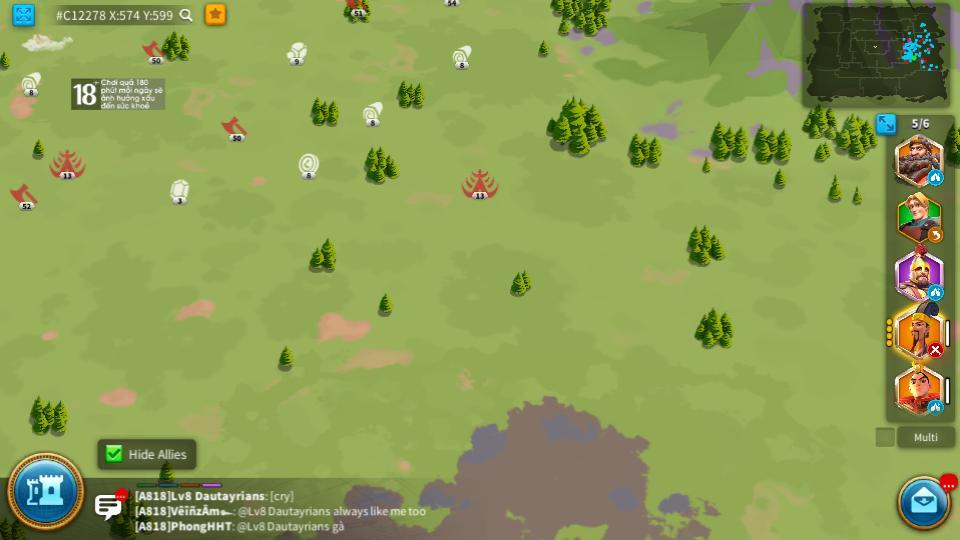gem-z-out: (168, 178, 191, 202)
march_attacking: (929, 345, 943, 356)
march_idle: (927, 401, 945, 415), (929, 284, 942, 299), (929, 173, 942, 186)
march_returning: (929, 229, 942, 241)
